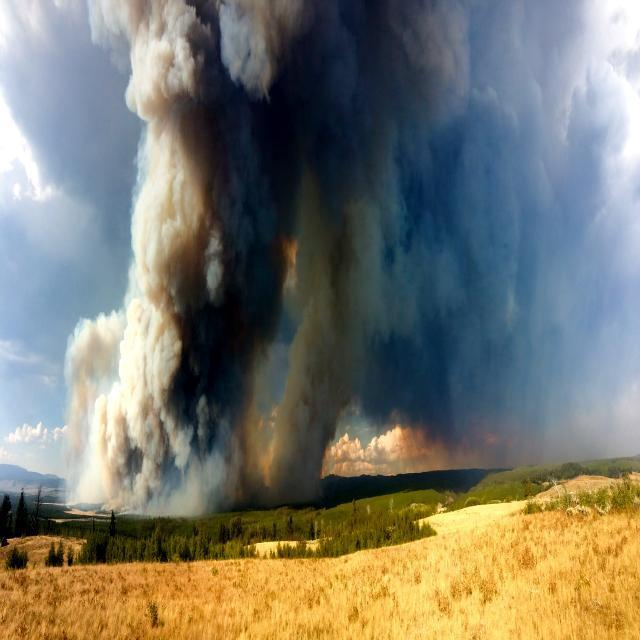Smoke: (62, 0, 577, 503)
